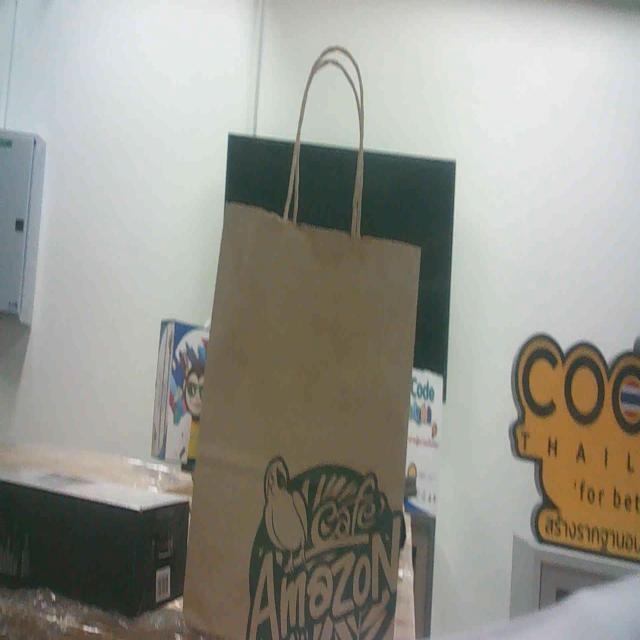bag: (189, 158, 434, 640)
